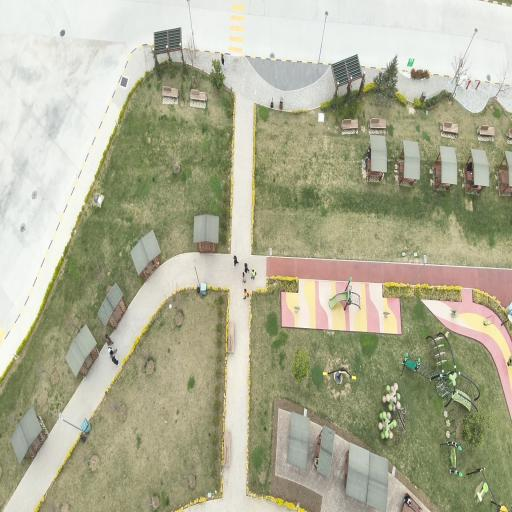person: (363, 148, 371, 166), (404, 494, 411, 506), (106, 334, 113, 346), (108, 347, 117, 356), (111, 356, 118, 365), (467, 162, 473, 172), (251, 268, 256, 279), (244, 263, 249, 274), (244, 289, 249, 299), (234, 256, 238, 267), (221, 54, 224, 66), (243, 272, 246, 283), (508, 357, 511, 366), (271, 99, 273, 108)
